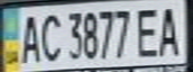3: (63, 8, 84, 61)
7: (112, 6, 136, 58), (97, 7, 118, 60)
8: (78, 7, 100, 60)
A: (154, 2, 187, 57), (15, 10, 42, 64)
C: (36, 9, 63, 62)
E: (133, 3, 163, 59)
